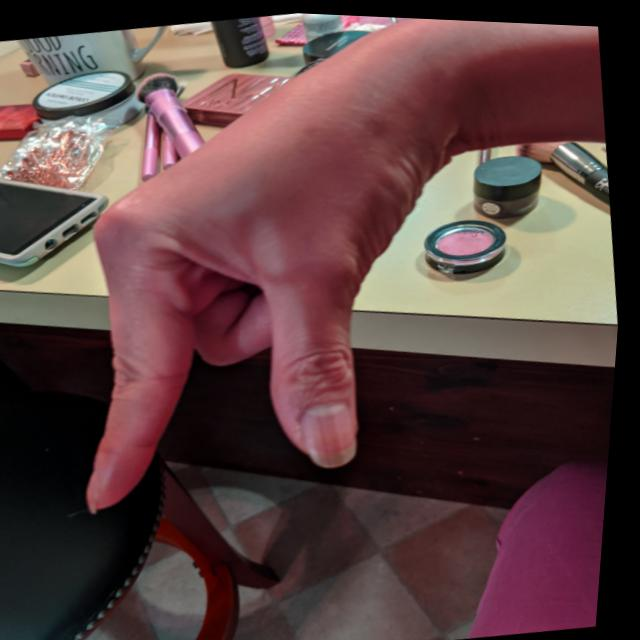Q: (14, 2, 524, 537)
